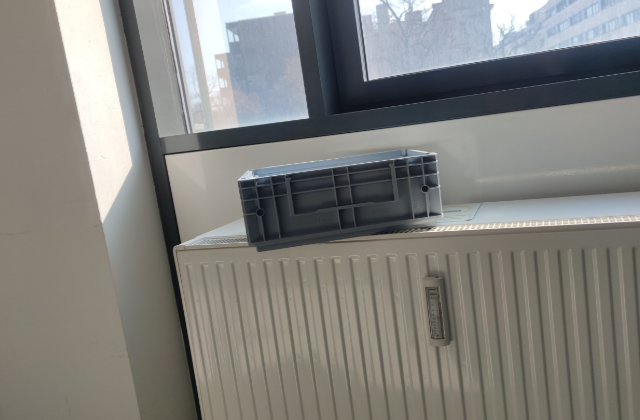Box: (236, 146, 445, 252)
